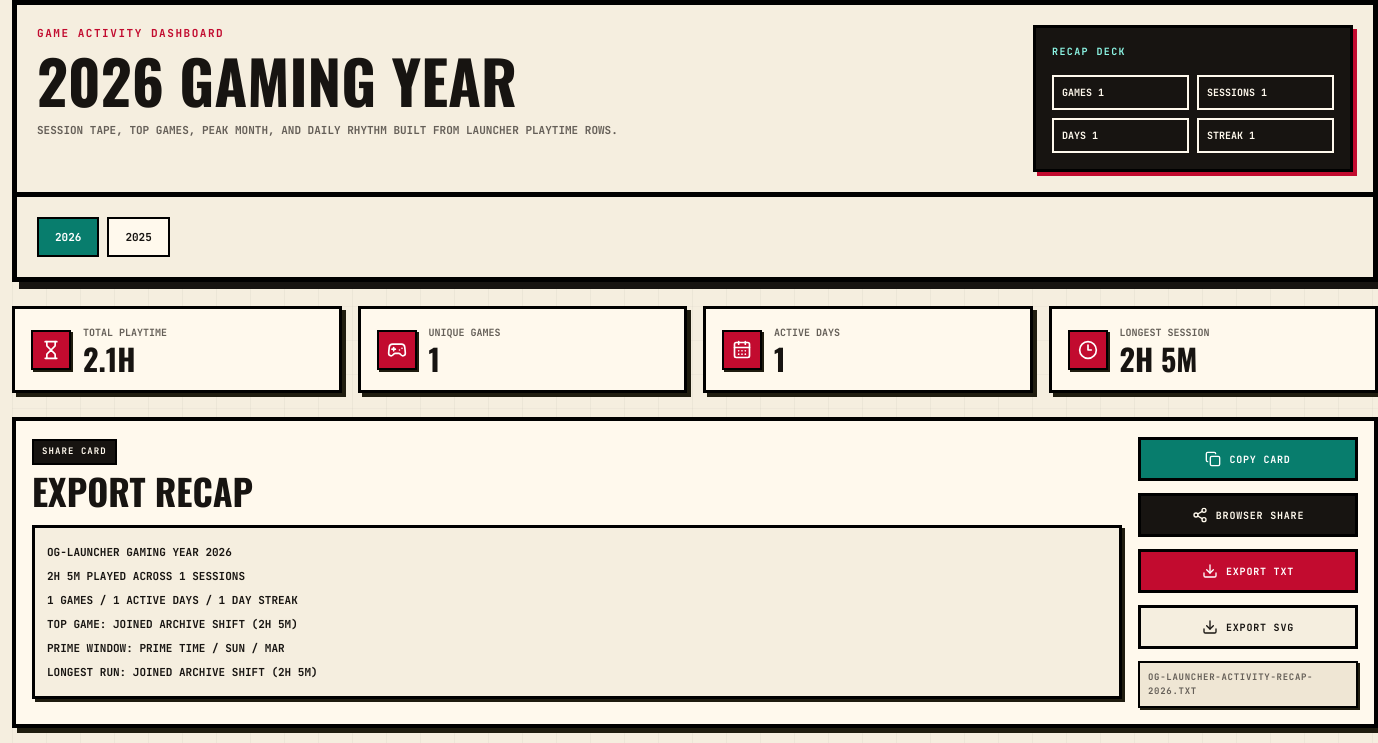
GameActivityDashboardPage › shows a copy failure state when clipboard access is unavailable
Click the button "Copy Card": (1248,459) [1138,437,1358,481]
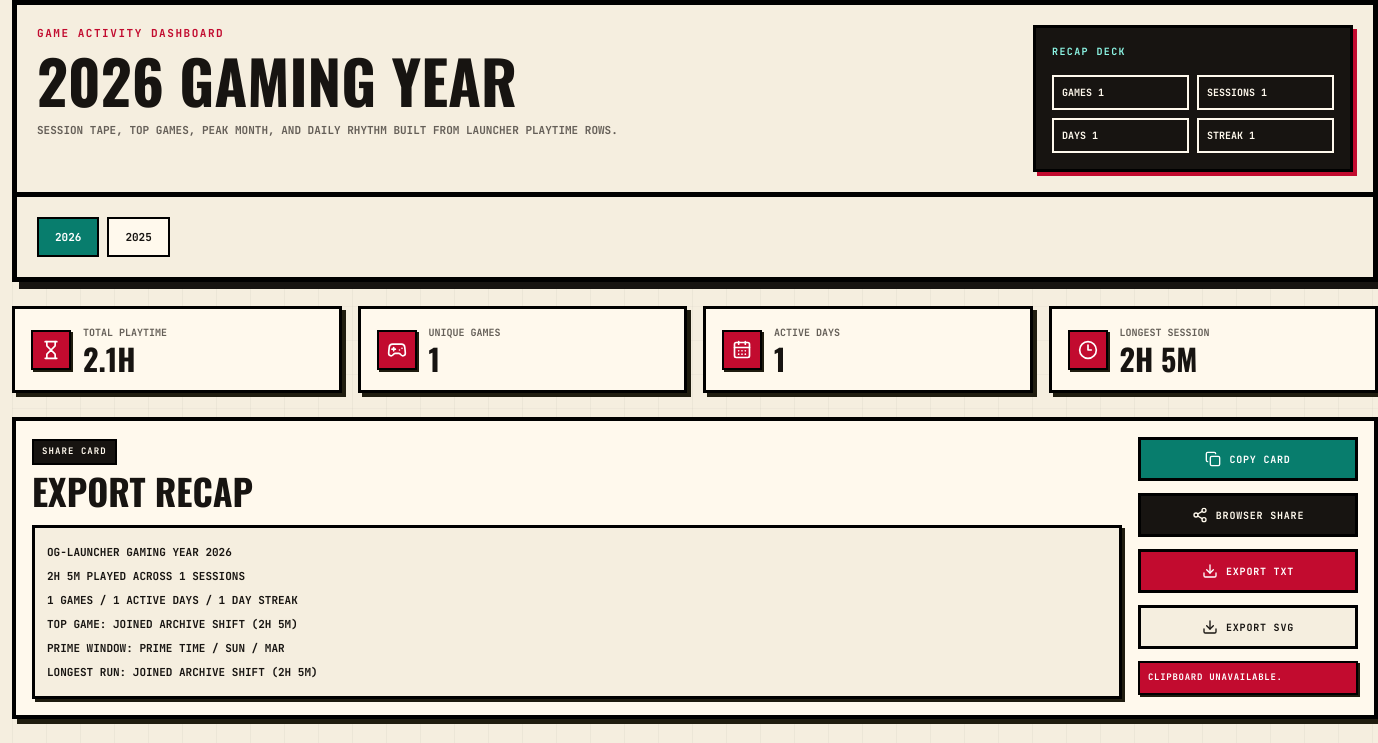
Expected: the text "Clipboard unavailable." is shown, [1138,661,1358,694]
